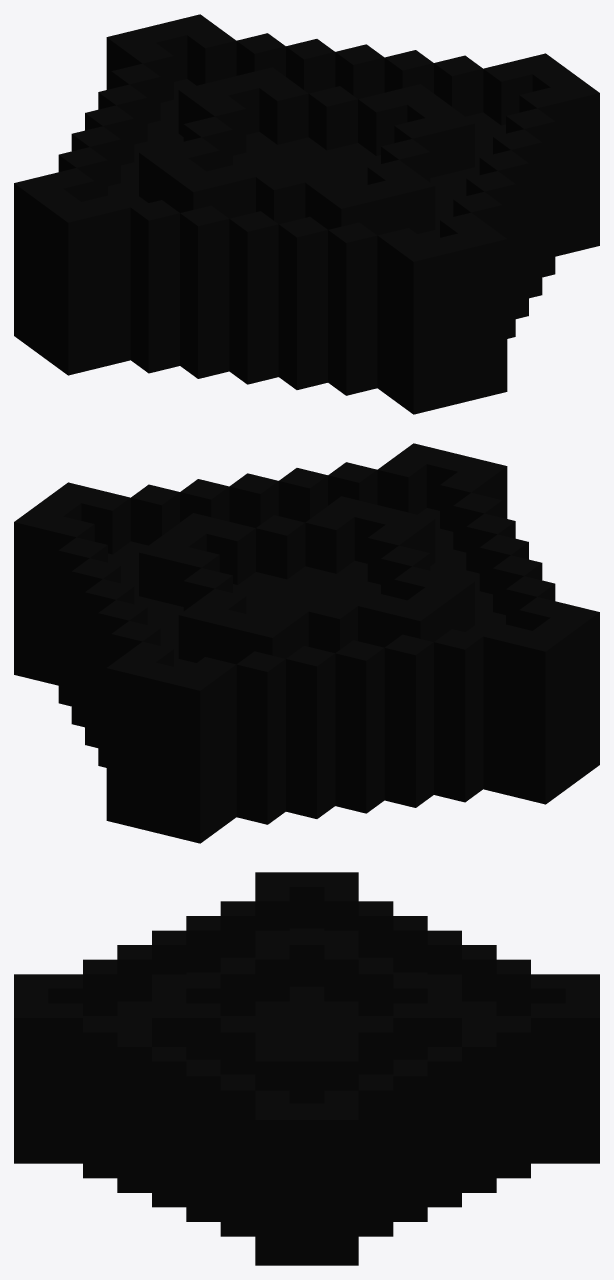
The model's file is Divide 1.fbx.
The picture shows the model from 3 angles, top to bottom: view 1: azimuth 30°, elevation 25°; view 2: azimuth 150°, elevation 25°; view 3: azimuth 270°, elevation 25°; orthographic projection. The views are drawn at different scales.
Visible parts, largest first — view 1: DivideL, DivideR; view 2: DivideL, DivideR; view 3: DivideR, DivideL.
Part boxes in pixels (x1,y1,x2,y2): DivideL: (14, 25, 460, 414); DivideR: (154, 14, 599, 402); DivideL: (153, 454, 599, 843); DivideR: (14, 443, 459, 831); DivideR: (14, 996, 599, 1265); DivideL: (14, 872, 599, 1037).
Size of the model in its own units: 5.1 by 1.4 by 5.1.
